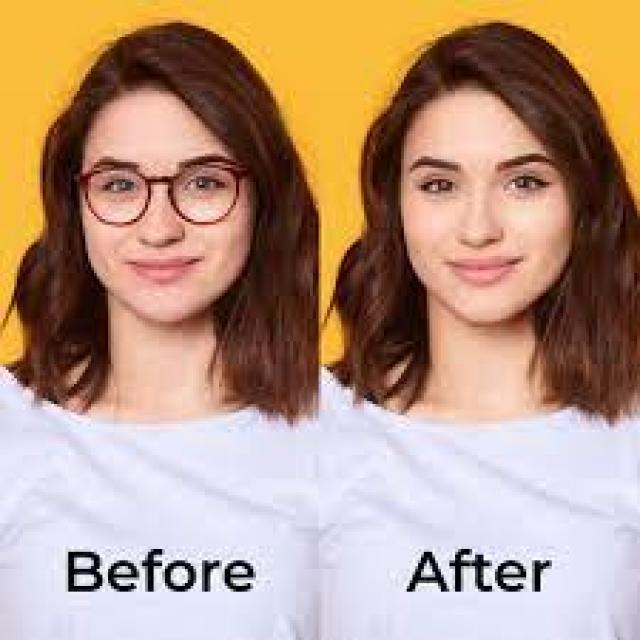Glasses: (73, 160, 253, 228)
